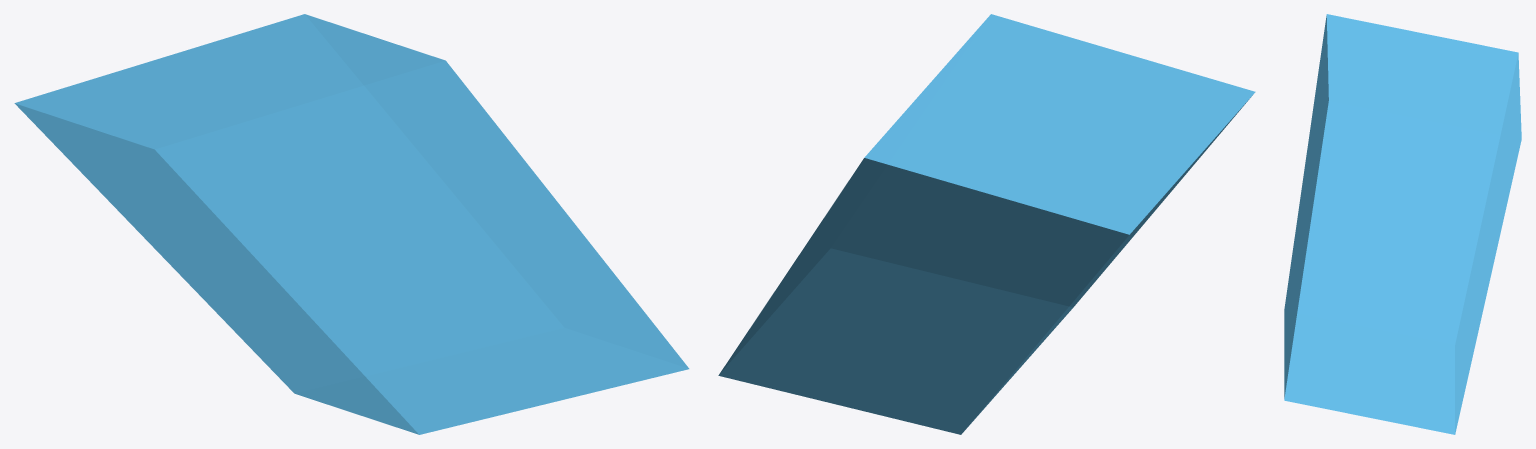
File: Event_421115418_HBrechit_13.fbx
3 views of the same model, side by side, from view 1: azimuth 30°, elevation 25°; view 2: azimuth 150°, elevation 25°; view 3: azimuth 270°, elevation 25° (orthographic). The views are drawn at different scales.
Visible parts, largest first — view 1: Model; view 2: Model; view 3: Model.
Part boxes in pixels (<box>): Model: <box>14,14,689,434</box>; Model: <box>718,14,1255,434</box>; Model: <box>1284,14,1521,434</box>.
Size of the model in its own units: 0.9124 by 0.6684 by 0.545.
